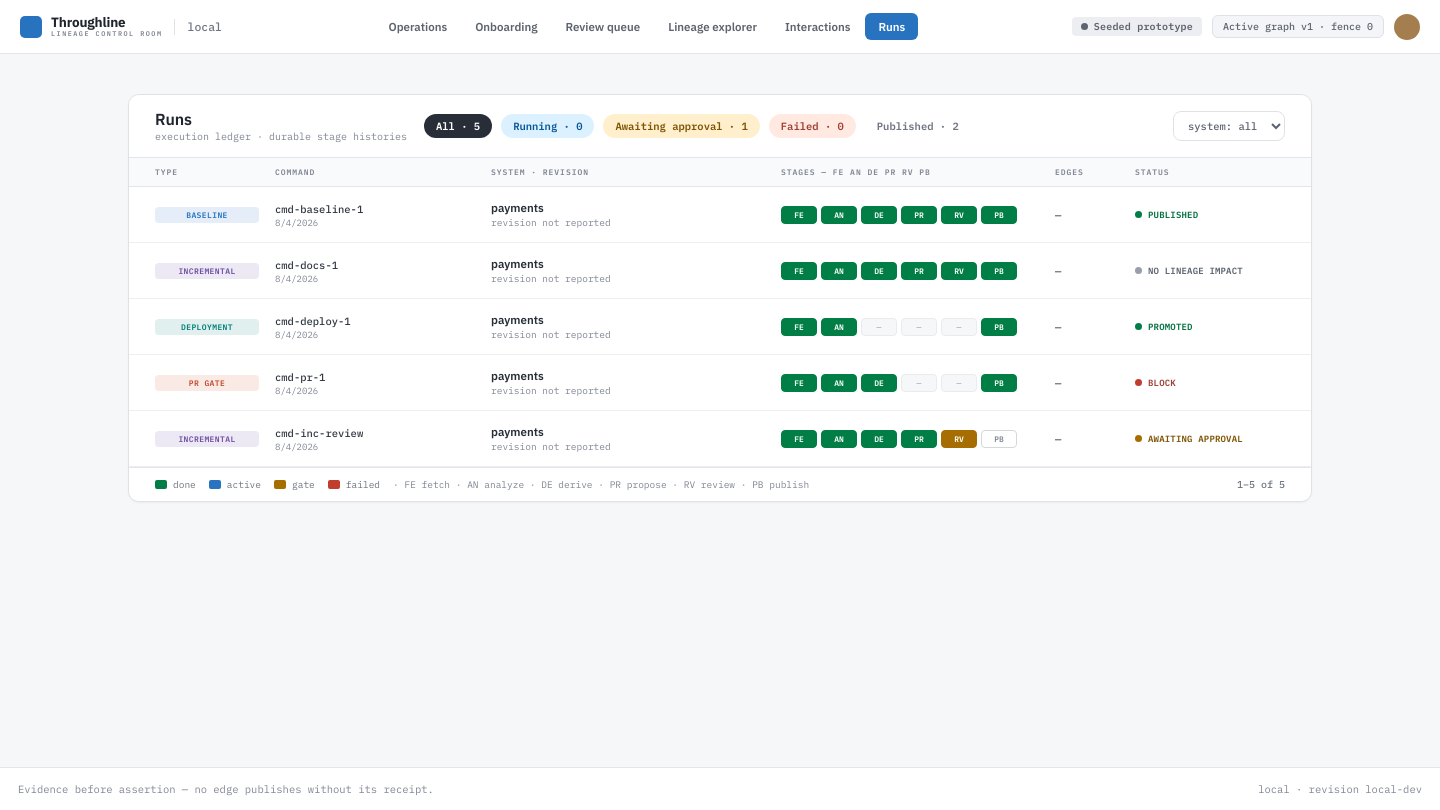
Scenario: expanding a run without artifact refs stays honest
The width and height of the screenshot is (1440, 810).
Click the button named "Stage pipeline for cmd-docs-1".
click(207, 270)  # box [129,243,1311,298]
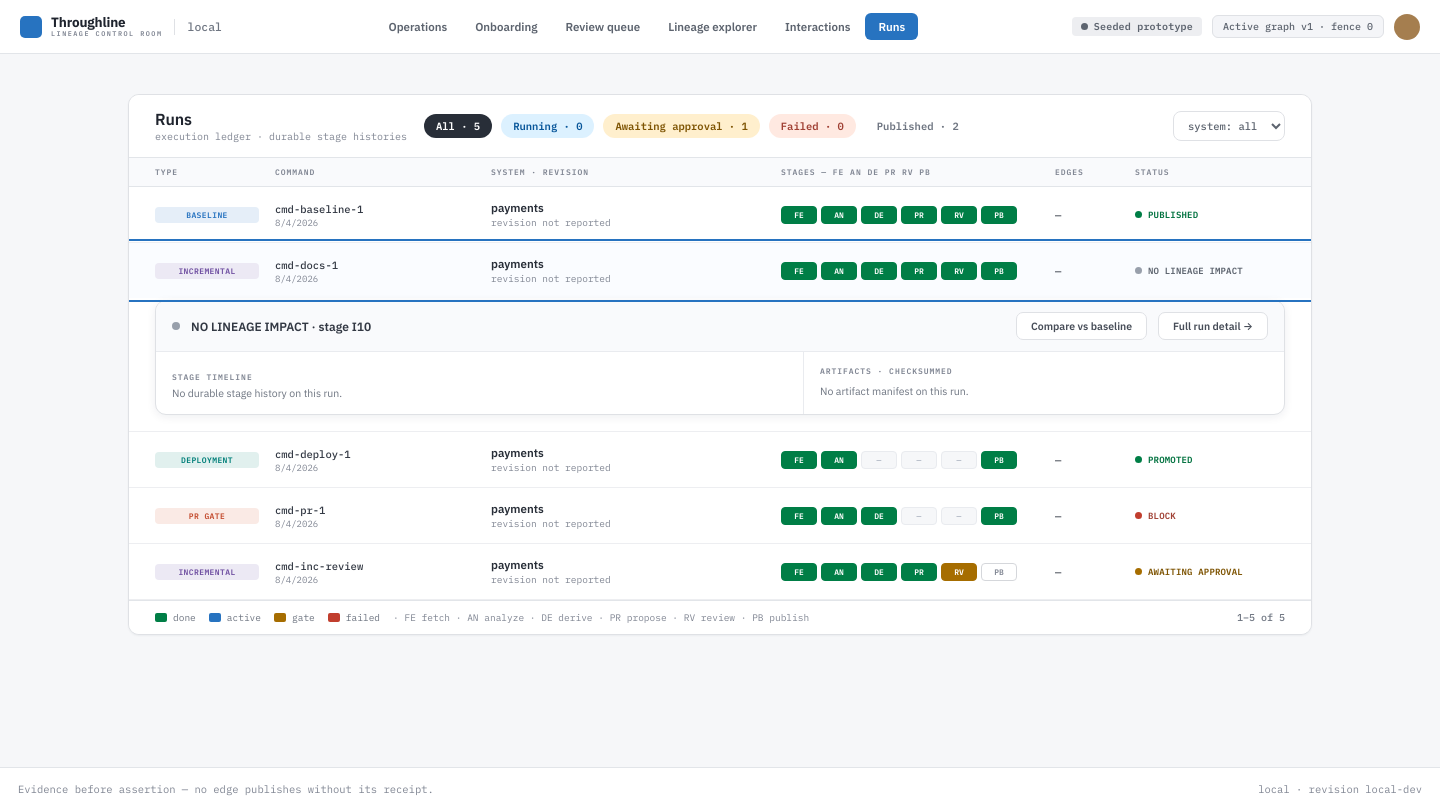
Expected: the text "No artifact manifest on this run." is shown, [820,384,969,398]
Expected: the text "No durable stage history on this run." is shown, [172,386,342,400]
